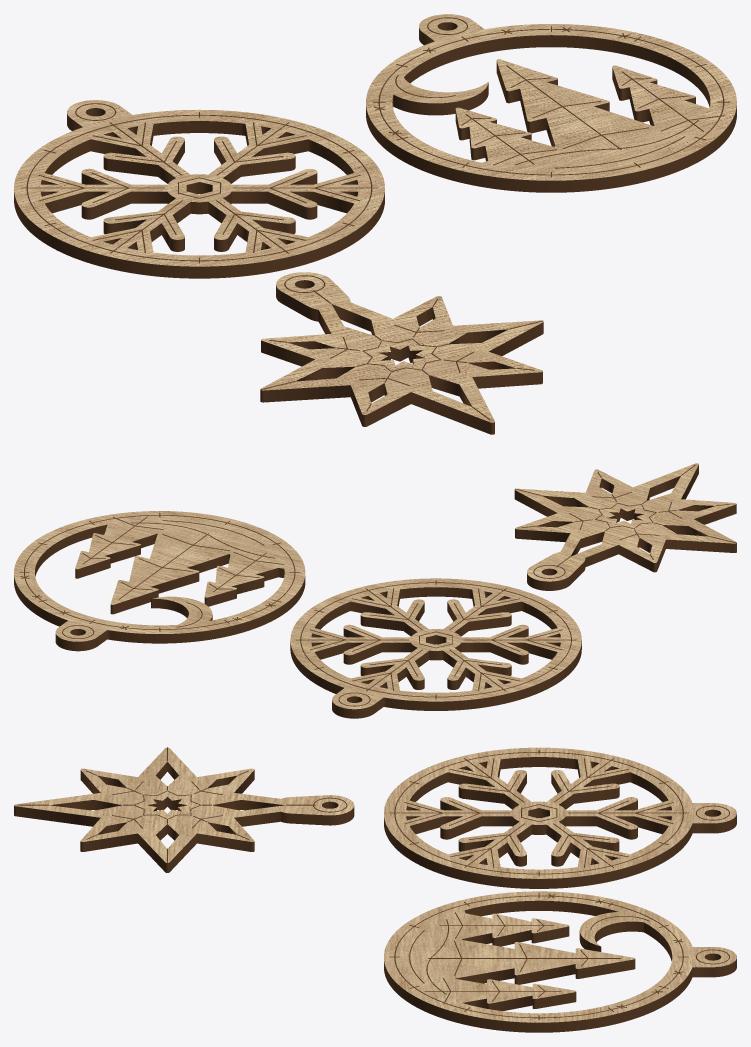
File: winterlight.glb
The picture shows the model from 3 angles, top to bottom: view 1: azimuth 30°, elevation 25°; view 2: azimuth 150°, elevation 25°; view 3: azimuth 270°, elevation 25°; orthographic projection. The views are drawn at different scales.
Visible parts, largest first — view 1: body0, body1, body2, score0, score1, score2; view 2: body0, body1, body2, score0, score1, score2; view 3: body0, body1, body2, score0, score1, score2.
Boxes of the visible parts, bbox=[...] form: body0: bbox=[14, 100, 384, 278]; body1: bbox=[366, 14, 736, 192]; body2: bbox=[260, 272, 543, 434]; score0: bbox=[21, 103, 377, 263]; score1: bbox=[372, 17, 730, 177]; score2: bbox=[261, 275, 542, 419]; body0: bbox=[290, 578, 581, 718]; body1: bbox=[14, 511, 305, 651]; body2: bbox=[514, 463, 736, 590]; score0: bbox=[296, 580, 576, 706]; score1: bbox=[19, 512, 300, 638]; score2: bbox=[515, 465, 736, 578]; body0: bbox=[384, 747, 736, 888]; body1: bbox=[384, 891, 736, 1032]; body2: bbox=[14, 747, 354, 872]; score0: bbox=[389, 749, 729, 876]; score1: bbox=[389, 893, 729, 1019]; score2: bbox=[19, 747, 347, 862].
Bounding box in the file's own units: 0.176 × 0.00312 × 0.1955.
3 materials, 1 textured.
